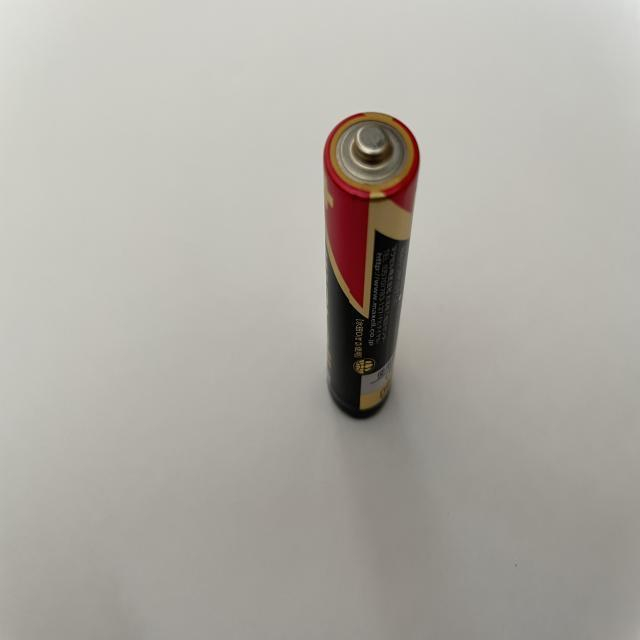hazardous waste: (320, 110, 420, 420)
